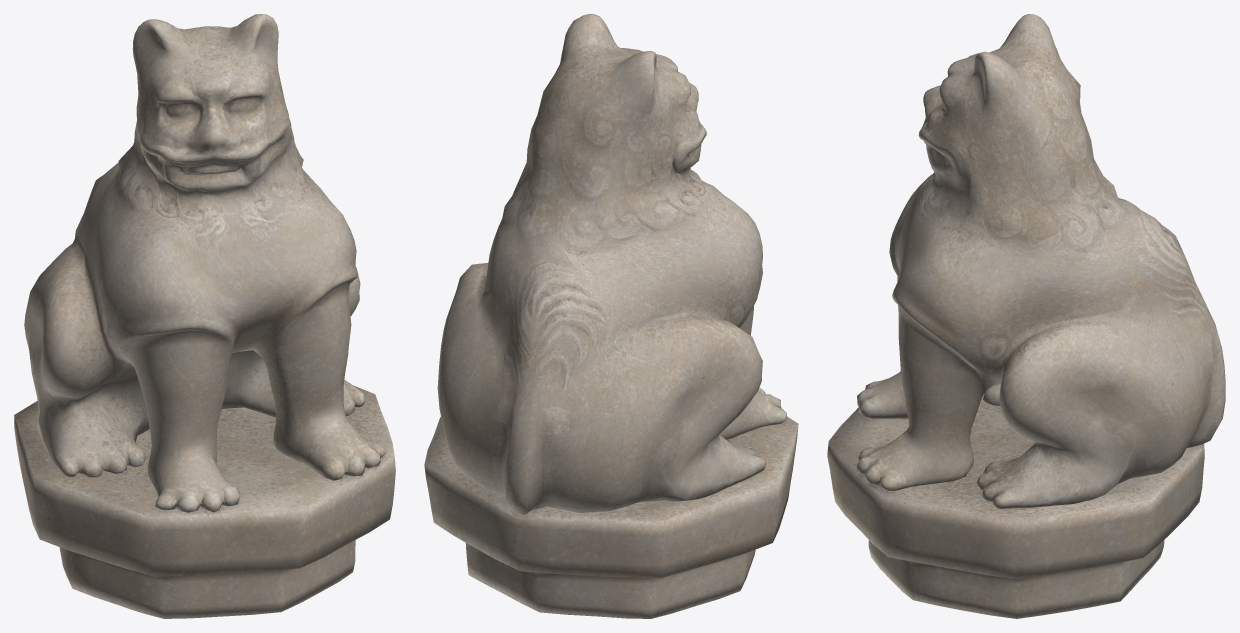
3 renders of one model, left to right at view 1: azimuth 30°, elevation 25°; view 2: azimuth 150°, elevation 25°; view 3: azimuth 270°, elevation 25°, orthographic. The views are drawn at different scales.
Parts seen in each view (by area): view 1: SM_24HO0040_low; view 2: SM_24HO0040_low; view 3: SM_24HO0040_low.
Part boxes in pixels (x1,y1,x2,y2): SM_24HO0040_low: (14,14,395,618); SM_24HO0040_low: (424,14,798,618); SM_24HO0040_low: (827,14,1225,618).
Bounding box in the file's own units: 56.63 × 85.85 × 59.2.
